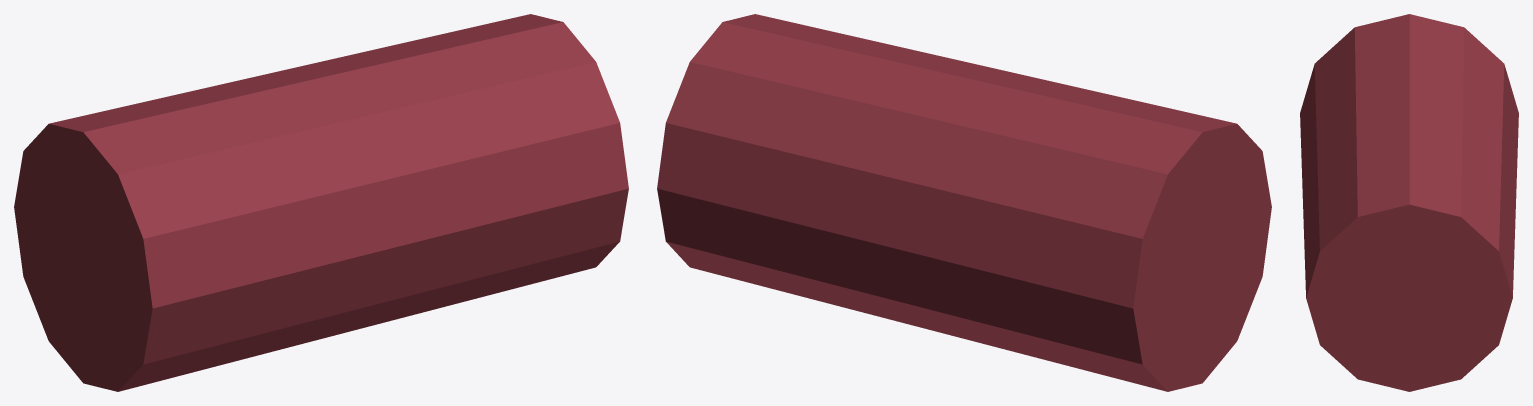
Rendered from SinSleeveLeft.fbx.
The picture shows the model from 3 angles, left to right: view 1: azimuth 30°, elevation 25°; view 2: azimuth 150°, elevation 25°; view 3: azimuth 270°, elevation 25°; orthographic projection. The views are drawn at different scales.
Visible parts, largest first — view 1: SinSleeveLeft; view 2: SinSleeveLeft; view 3: SinSleeveLeft.
Boxes of the visible parts, left/top/right/bottom form: SinSleeveLeft: left=14, top=14, right=628, bottom=391; SinSleeveLeft: left=657, top=14, right=1271, bottom=391; SinSleeveLeft: left=1300, top=14, right=1518, bottom=391.
Size of the model in its own units: 14.4 by 7.2 by 7.2.
